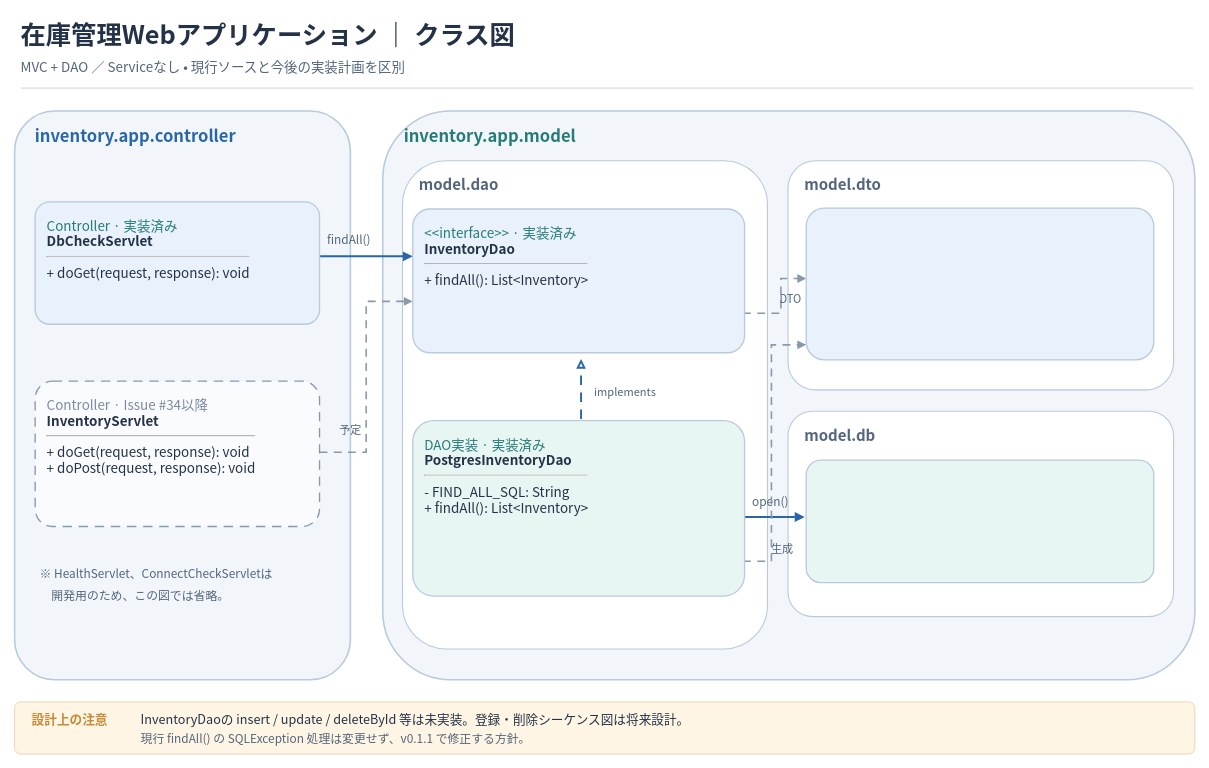
Image size: 1209x768. Some labels were removed from this diagram. Here are the shapes that lost their labels. From the top down, the box of each, then its label:
(805, 207, 1154, 360): DTO · 実装済み Inventory - id: int - name: String - quantity: int
(805, 459, 1154, 583): DB接続 · 実装済み DbConnection + open(): Connection
